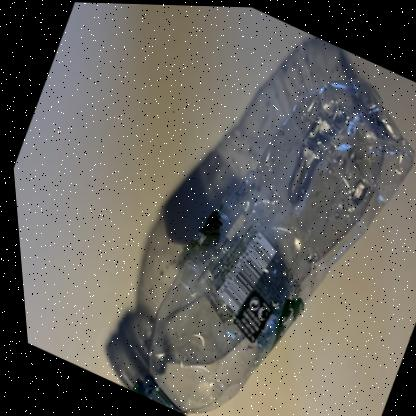Plastic: (140, 75, 409, 412)
